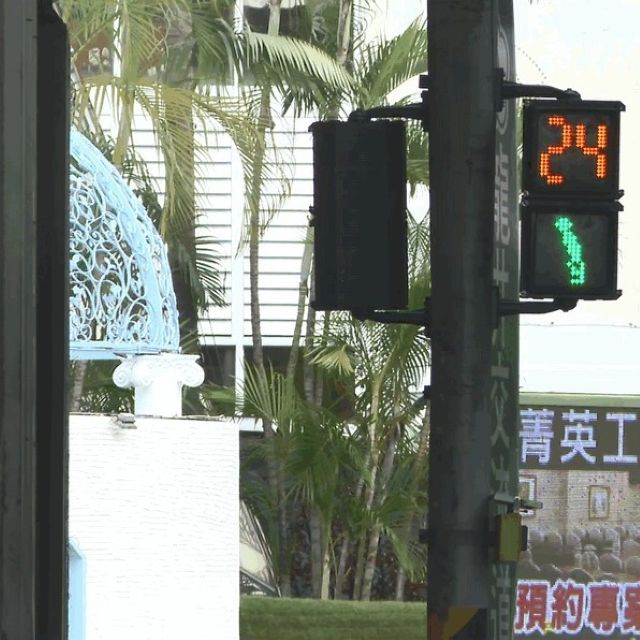green_light: (522, 102, 624, 297)
